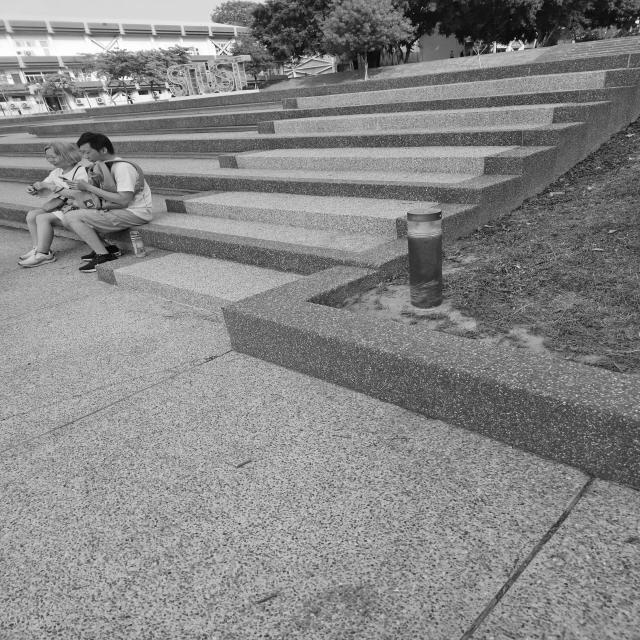Road-Object: (1, 230, 640, 640)
floor: (0, 51, 640, 312), (214, 289, 640, 518)
